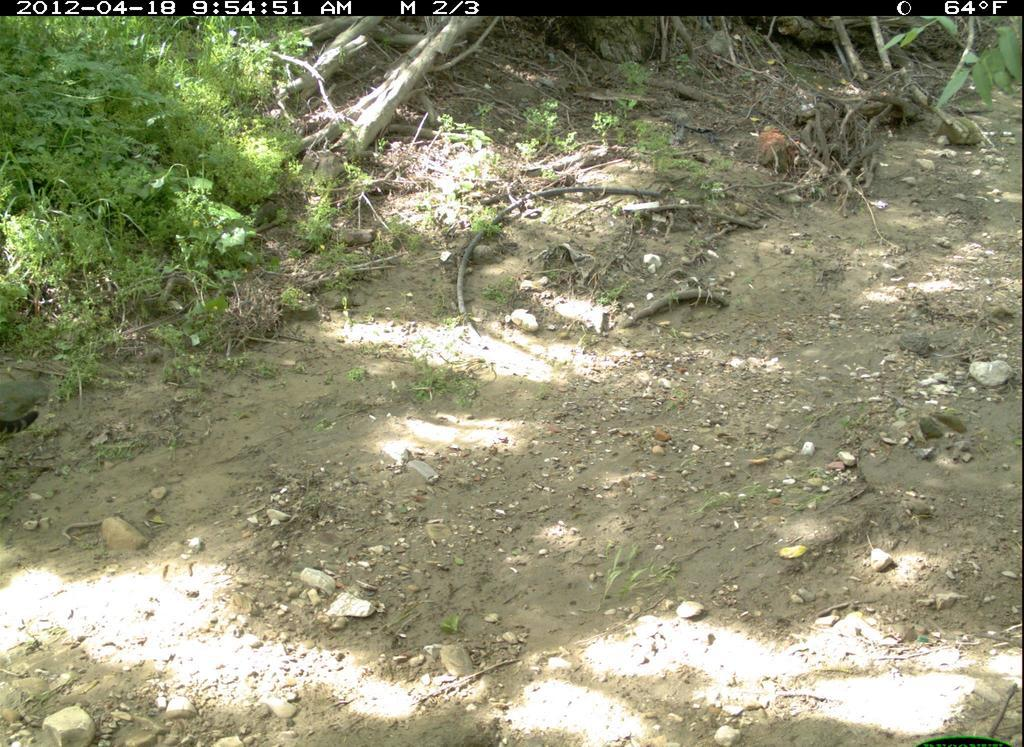cat: (1, 403, 50, 446)
